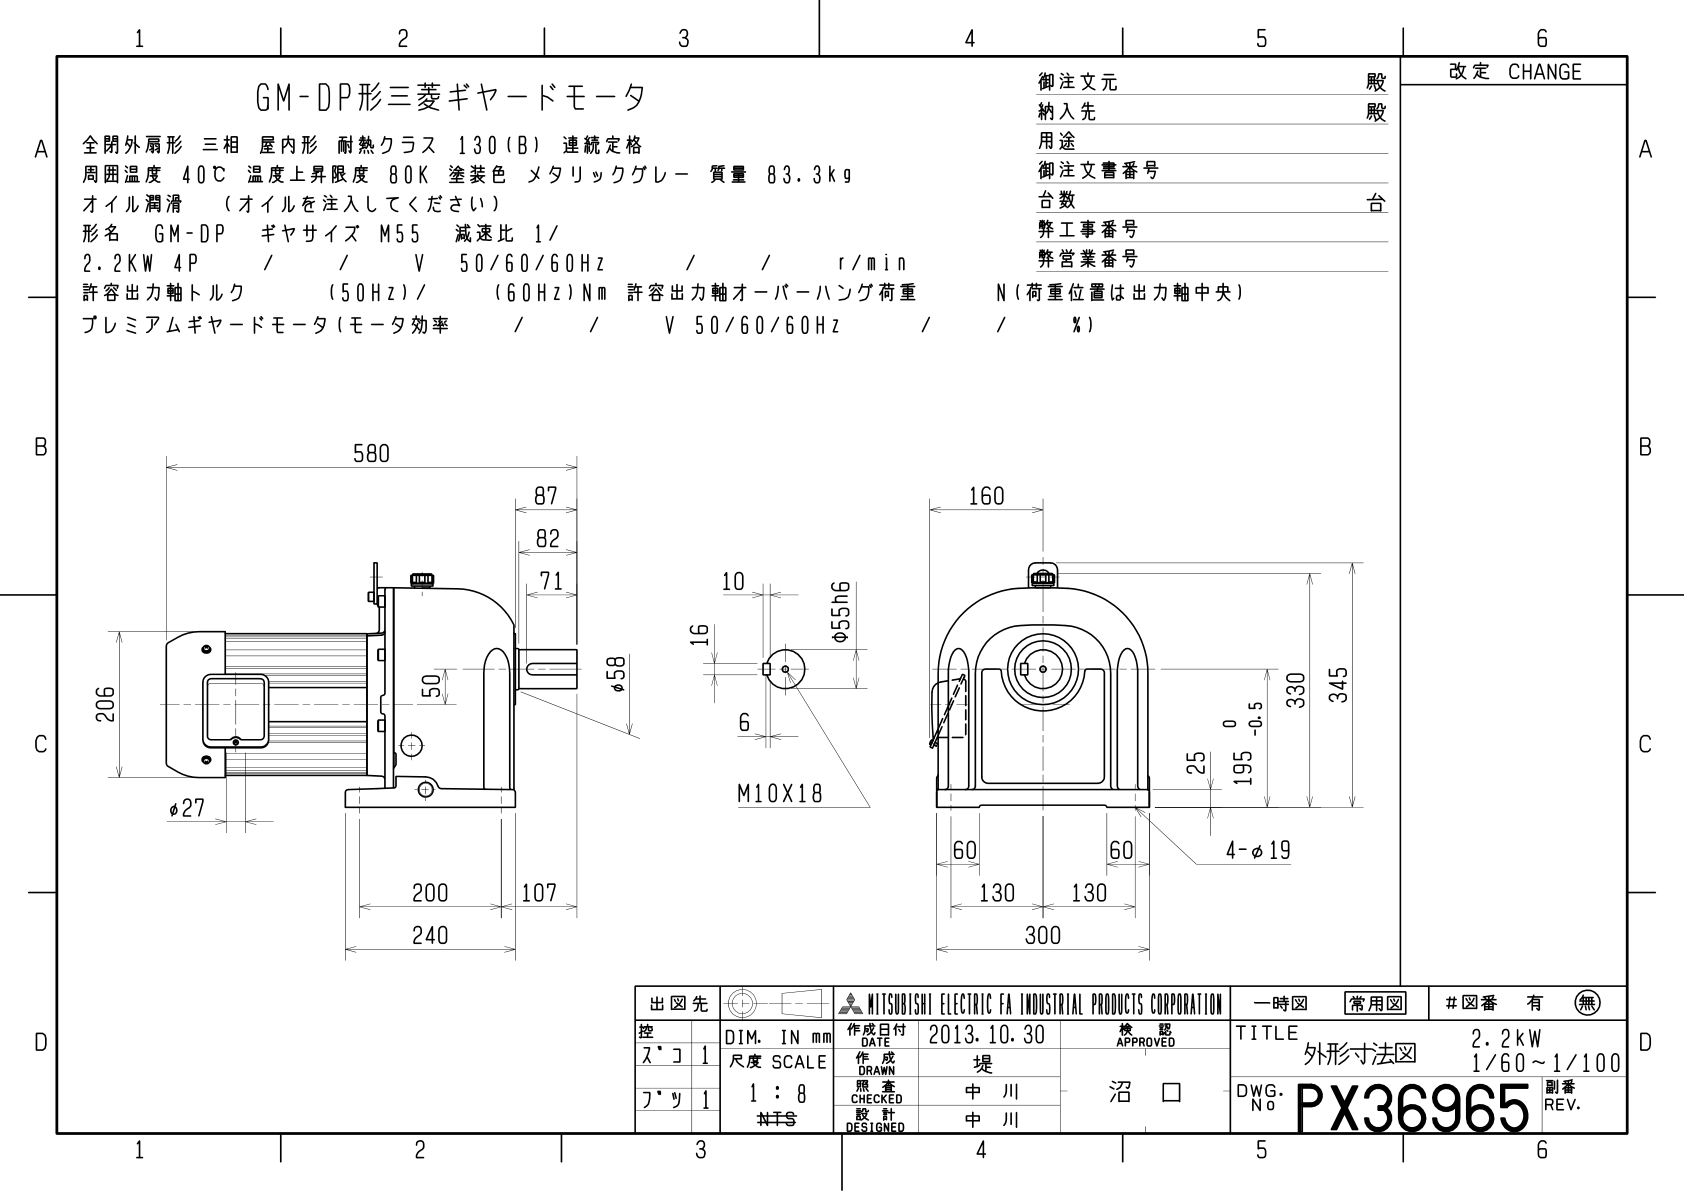GM_DP_屋内_三相_脚: (70, 400, 1381, 965)
